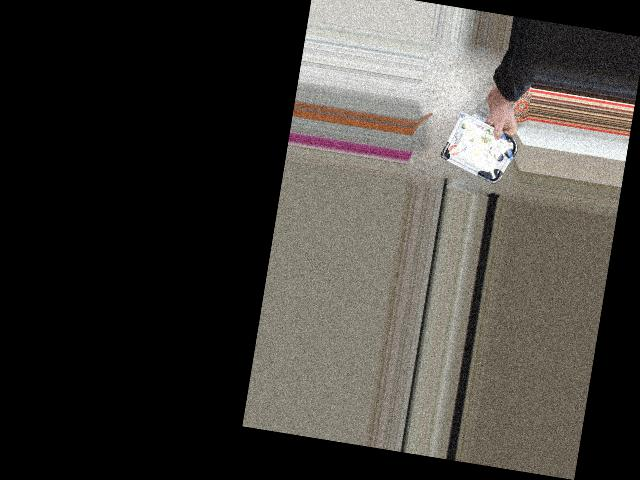cheese: (447, 123, 516, 178)
